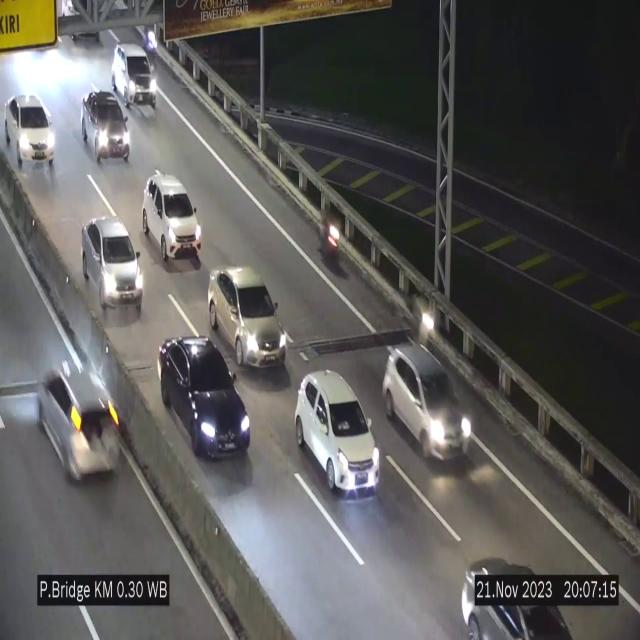Car: (36, 345, 125, 492), (458, 540, 578, 640), (158, 335, 250, 458), (386, 343, 470, 466), (295, 371, 379, 493), (208, 267, 288, 369), (82, 216, 143, 315), (143, 174, 202, 267), (0, 99, 56, 166), (82, 90, 130, 164), (111, 44, 155, 116)
Motorcycle: (414, 294, 441, 364), (321, 205, 344, 278)
